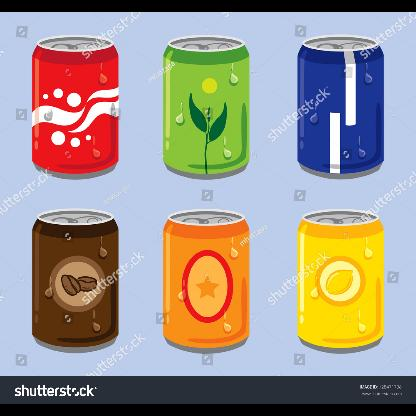Tin_Can: (286, 207, 392, 355), (158, 30, 252, 184), (292, 34, 390, 180), (158, 210, 256, 354), (30, 207, 122, 354), (30, 30, 119, 180)
